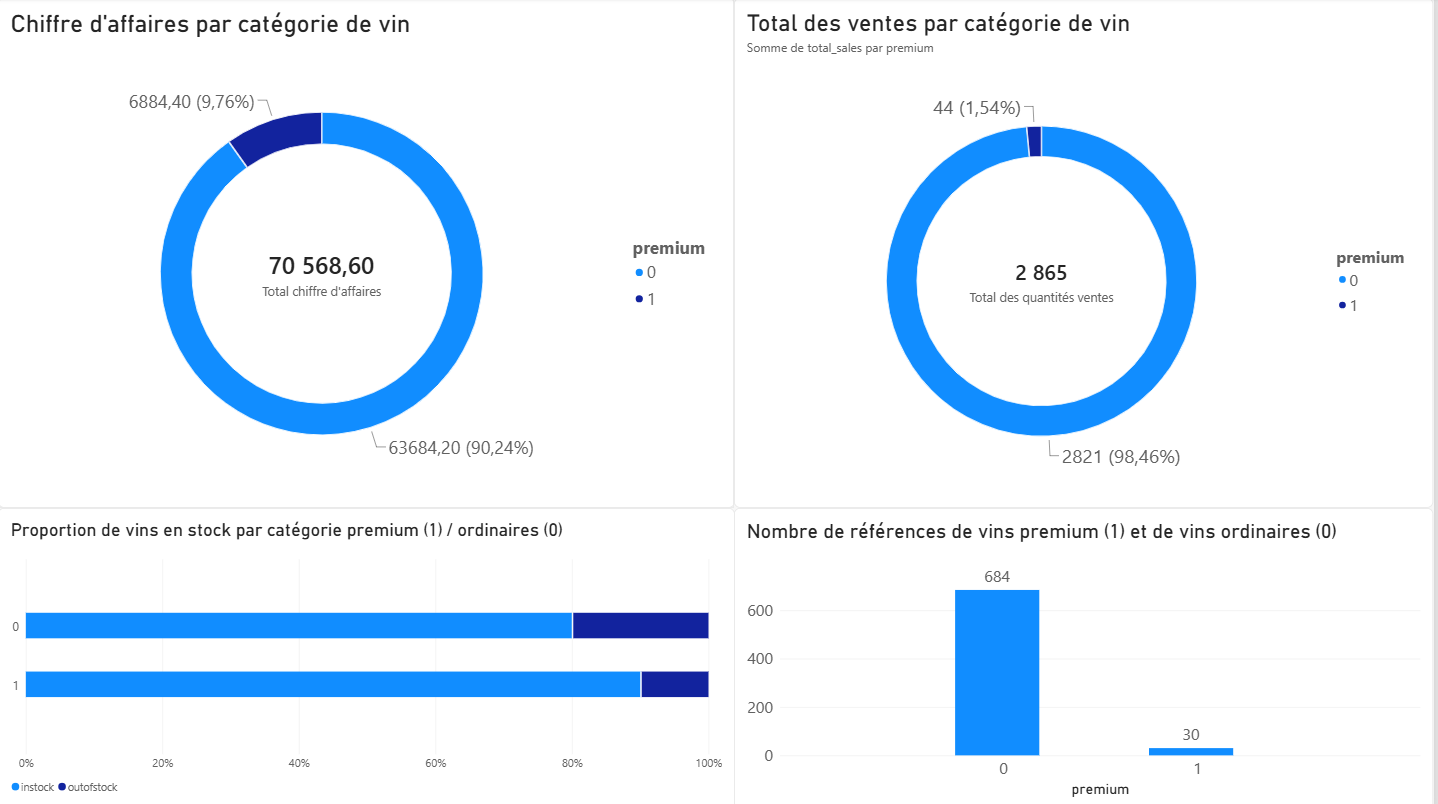

The dashboard page shown, as its layout file describes it:
{"tool":"powerbi","page":{"name":"Page 1","canvas":[1920,1080],"ordinal":0},"visuals":[{"type":"donutChart","title":"Chiffre d''affaires par catégorie de vin","fields":{"Y":["Sum(CA_products.CA_product)"],"Category":["vins_premium_ordinaires.premium"]},"box":[10,0,980,678],"z":0},{"type":"hundredPercentStackedBarChart","title":"Proportion de vins en stock par catégorie premium (1) / ordinaires (0)","fields":{"Category":["vins_premium_ordinaires.premium"],"Y":["CountNonNull(vins_premium_ordinaires.premium)"],"Series":["vins_premium_ordinaires.stock_status"]},"box":[10,678,980,402],"z":1},{"type":"clusteredColumnChart","title":"Nombre de références de vins premium (1) et de vins ordinaires (0)","fields":{"Y":["CountNonNull(vins_premium_ordinaires.premium)"],"Category":["vins_premium_ordinaires.premium"]},"box":[990,678,930,402],"z":2},{"type":"donutChart","title":"Total des ventes par catégorie de vin","fields":{"Category":["vins_premium_ordinaires.premium"],"Y":["Sum(vins_premium_ordinaires.total_sales)"]},"box":[990,0,930,678],"z":3}]}

Visuals, with their boxes in screenshot pixels (x1, y1, x2, y2), scaled from the page's 1920x1080 canvas onto the 1438x804 screenshot:
"Chiffre d''affaires par catégorie de vin" donutChart: [7,0,741,505]
"Proportion de vins en stock par catégorie premium (1) / ordinaires (0)" hundredPercentStackedBarChart: [7,505,741,803]
"Nombre de références de vins premium (1) et de vins ordinaires (0)" clusteredColumnChart: [741,505,1437,803]
"Total des ventes par catégorie de vin" donutChart: [741,0,1437,505]
